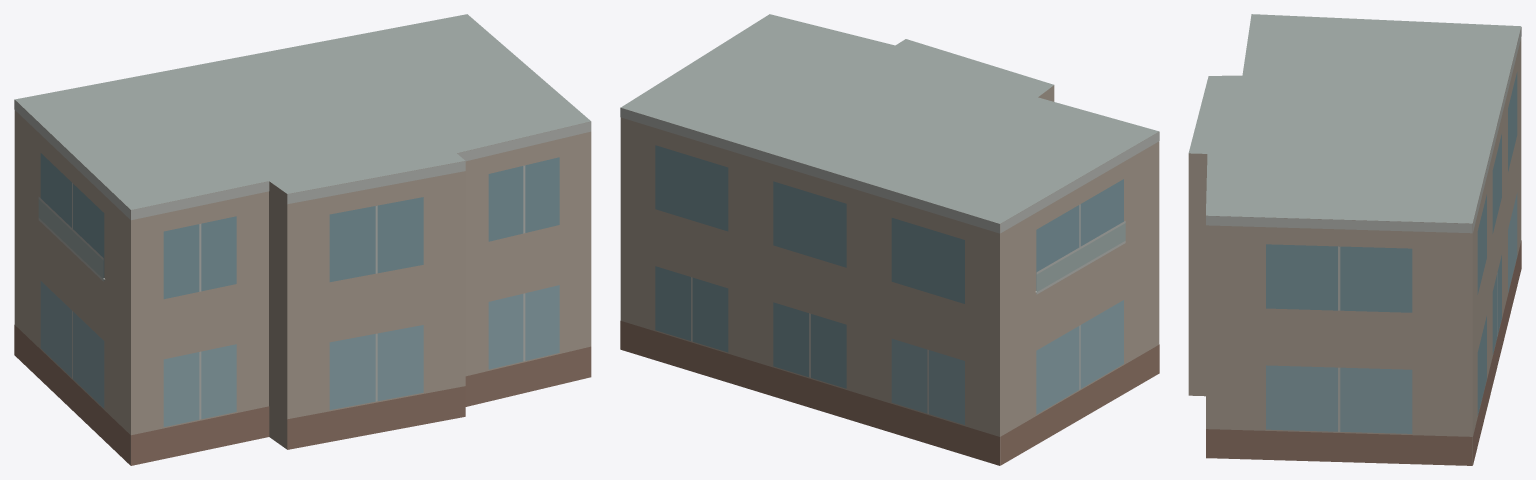
File: survey-upis-32788351.glb
The picture shows the model from 3 angles, left to right: view 1: azimuth 30°, elevation 25°; view 2: azimuth 150°, elevation 25°; view 3: azimuth 270°, elevation 25°; orthographic projection. The views are drawn at different scales.
Parts seen in each view (by area): view 1: survey-upis-32788351.tmp; view 2: survey-upis-32788351.tmp; view 3: survey-upis-32788351.tmp.
Boxes of the visible parts, <box> form: survey-upis-32788351.tmp: <box>14,14,591,465</box>; survey-upis-32788351.tmp: <box>620,14,1159,465</box>; survey-upis-32788351.tmp: <box>1188,14,1521,465</box>.
Bounding box in the file's own units: 11.32 × 6.1 × 7.61.
